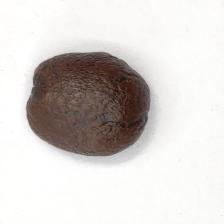NG: (104, 66, 150, 134)
